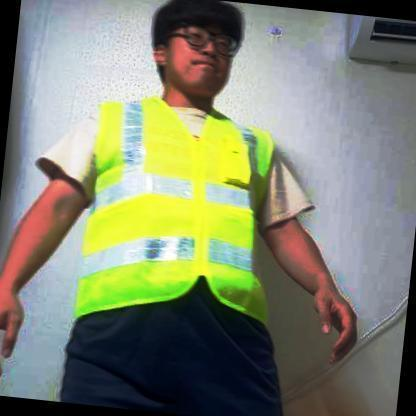no-helmet: (147, 0, 241, 66)
vest: (73, 90, 292, 339)
